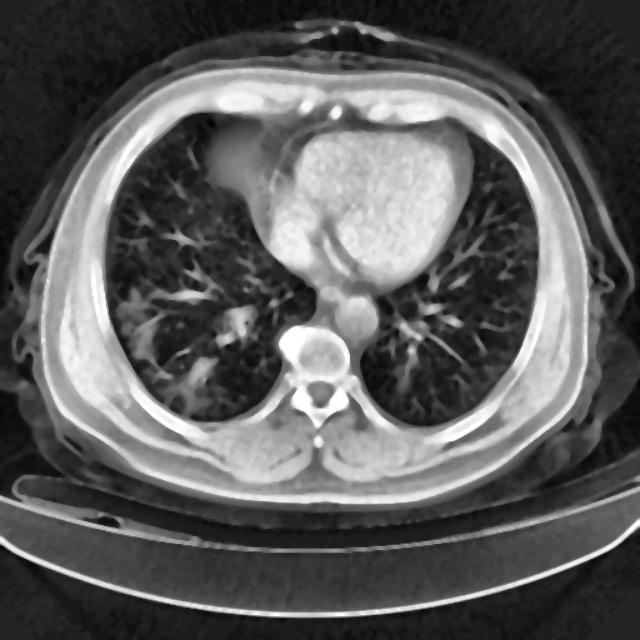covid: (4, 20, 635, 524)
